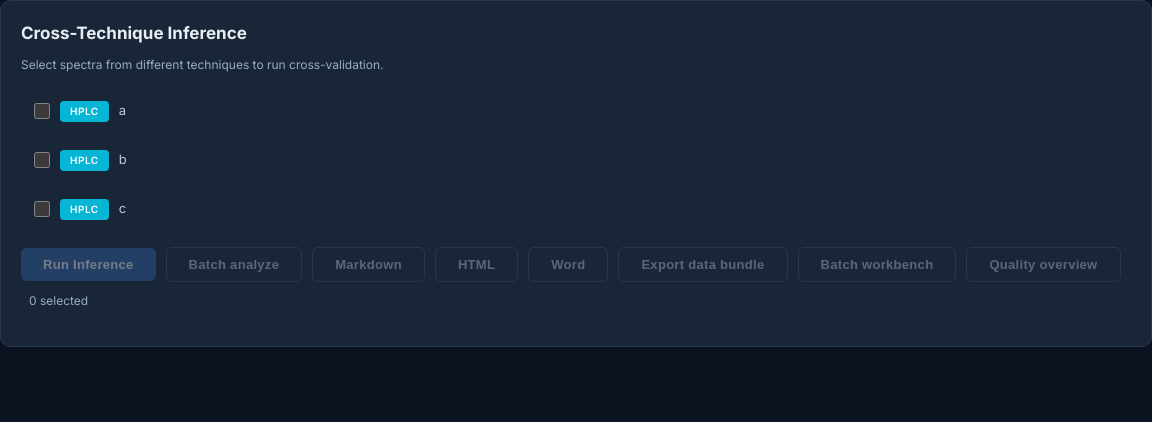
Test: announces current failures and permits retry
Click the checkbox labelled "HPLC a".
click(42, 111)  # box [34,103,50,119]
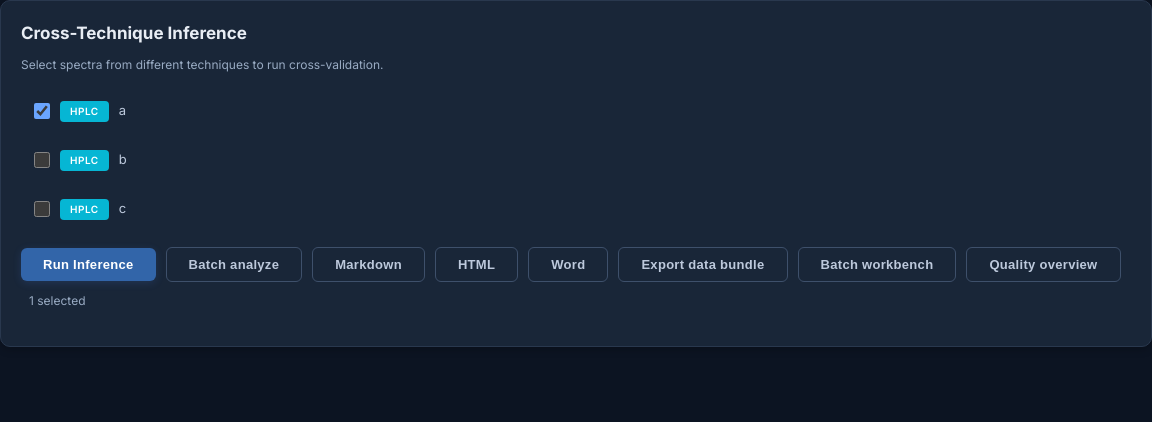
Click the checkbox labelled "HPLC b".
click(42, 160)  # box [34,152,50,168]
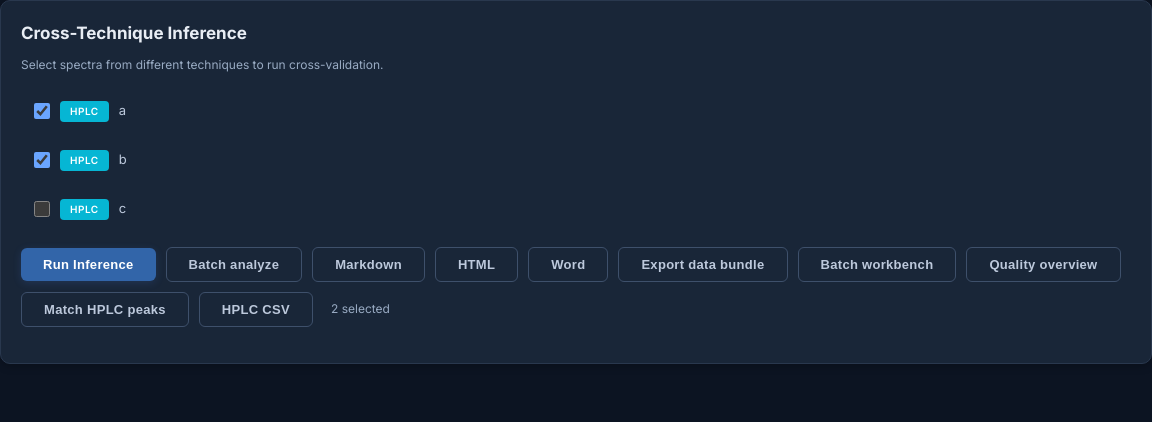
Click the button "Run Inference".
click(88, 264)  # box [21,248,156,281]
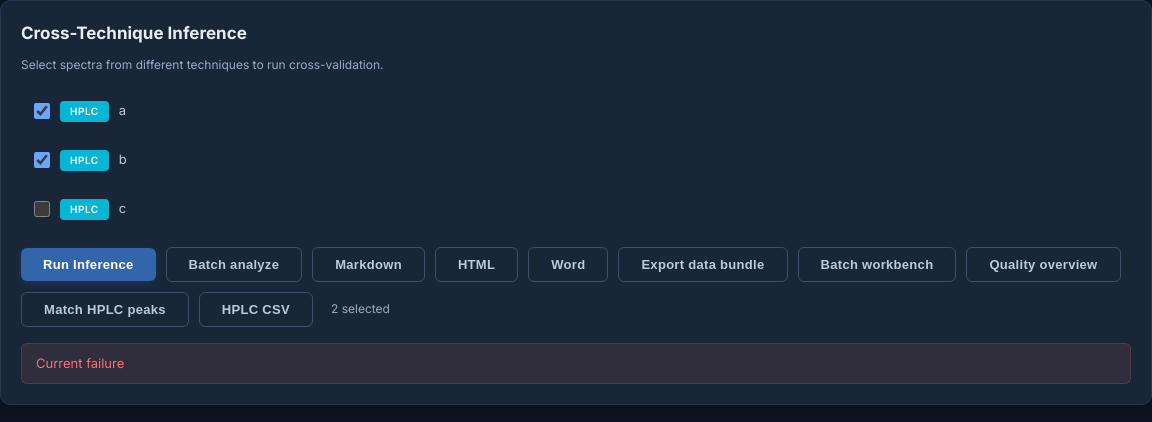
Expected: the button "Run Inference" is enabled, [21,248,156,281]
Expected: the message reads "Current failure", [36,355,124,371]
